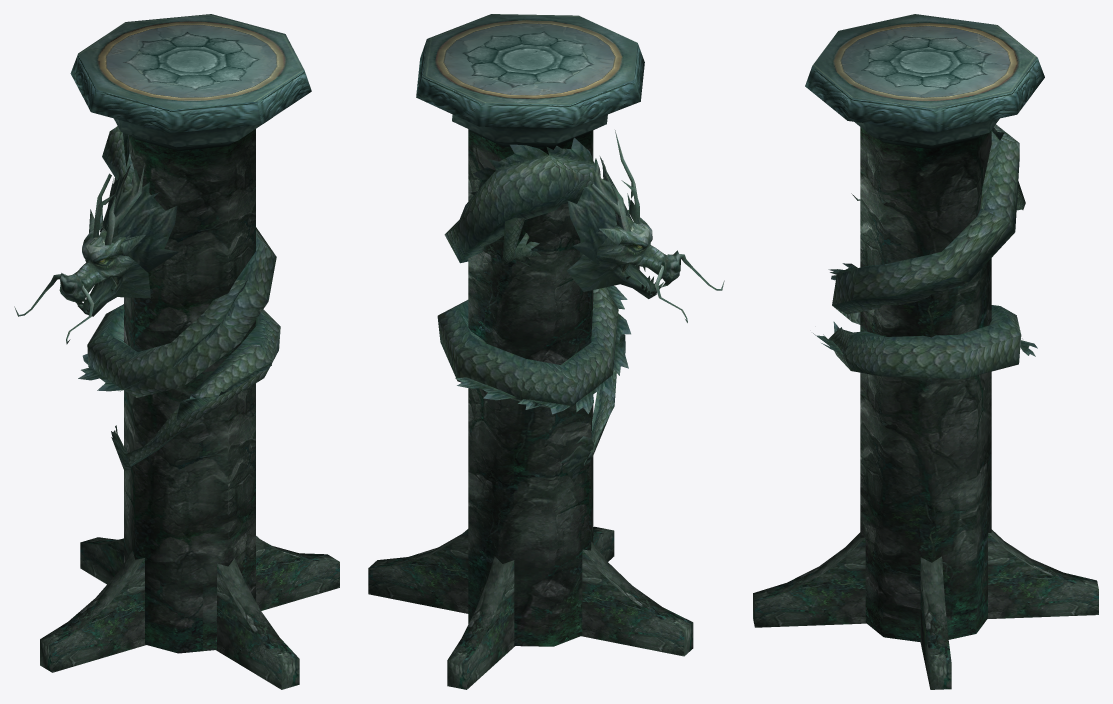
File: xuanrenchangjing_zhuzilong_01.FBX
3 views of the same model, side by side, from view 1: azimuth 30°, elevation 25°; view 2: azimuth 150°, elevation 25°; view 3: azimuth 270°, elevation 25° (orthographic).
Parts seen in each view (by area): view 1: xuanrenchangjing_zhuzilong_01; view 2: xuanrenchangjing_zhuzilong_01; view 3: xuanrenchangjing_zhuzilong_01.
Part boxes in pixels (x1,y1,x2,y2): xuanrenchangjing_zhuzilong_01: (14,14,339,689); xuanrenchangjing_zhuzilong_01: (368,14,724,689); xuanrenchangjing_zhuzilong_01: (753,14,1098,689).
Bounding box in the file's own units: 2.96 × 5.03 × 2.84.
